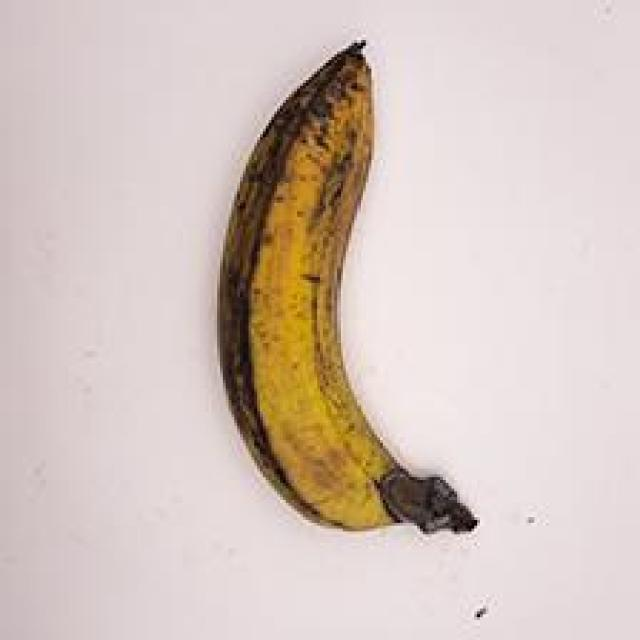Overripe: (174, 24, 523, 554)
